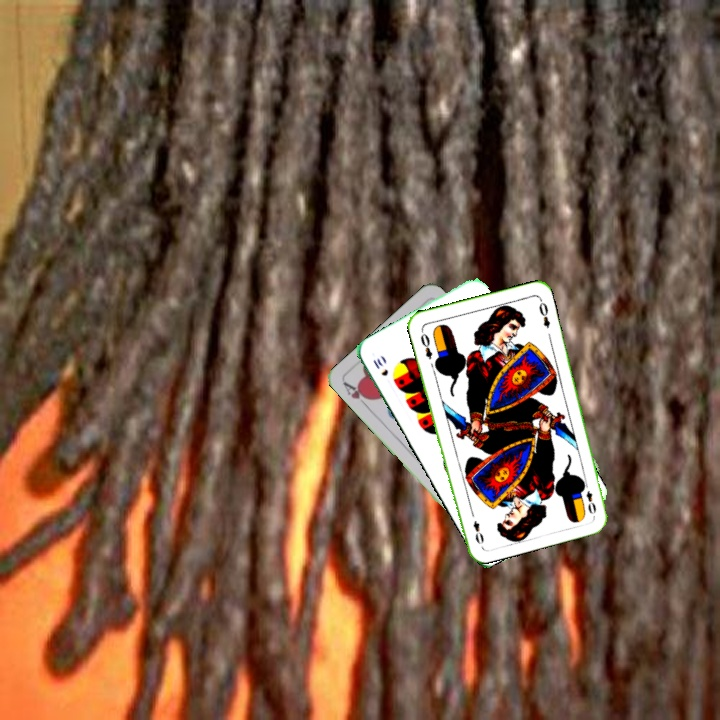EO: (578, 478, 599, 517), (416, 326, 435, 362)
HA: (339, 378, 374, 411)
S10: (369, 354, 391, 379)
